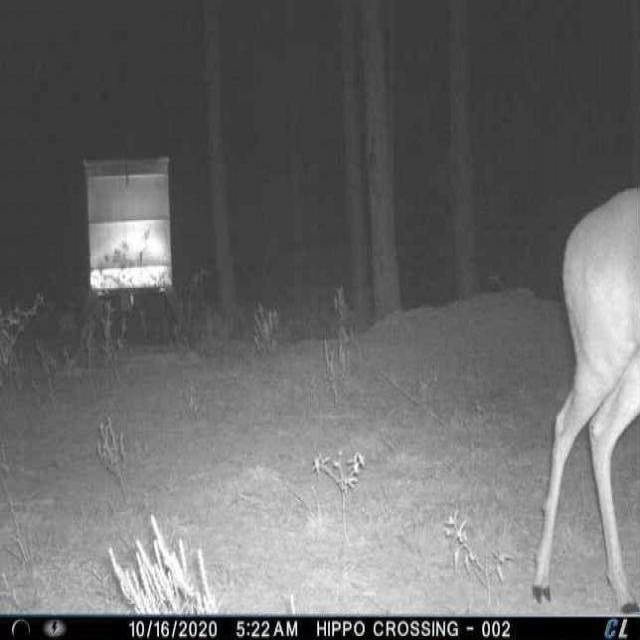deer: (528, 185, 640, 618)
